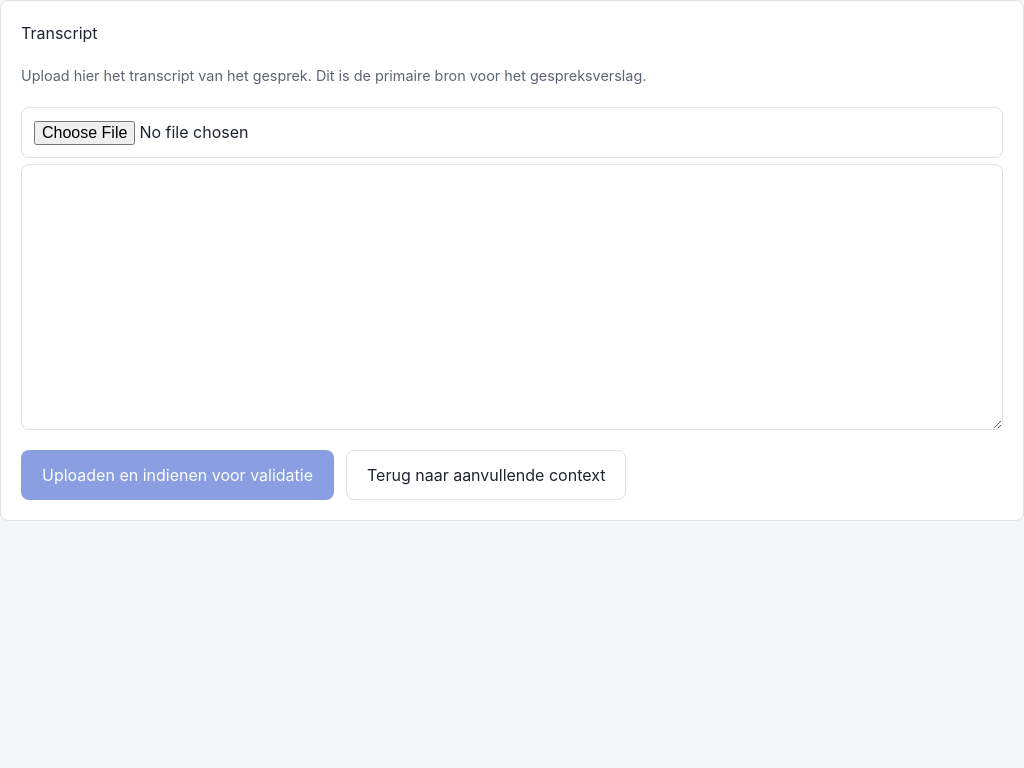
Test: routes/Upload/UploadScreen › disables the submit button until transcript text is entered
Expected: the button "Uploaden en indienen voor validatie" is disabled, [21,450,334,500]
Type "Some transcript content" into the text box labelled "Transcript".
click(512, 297); type("Some transcript content")  # box [21,164,1003,430]
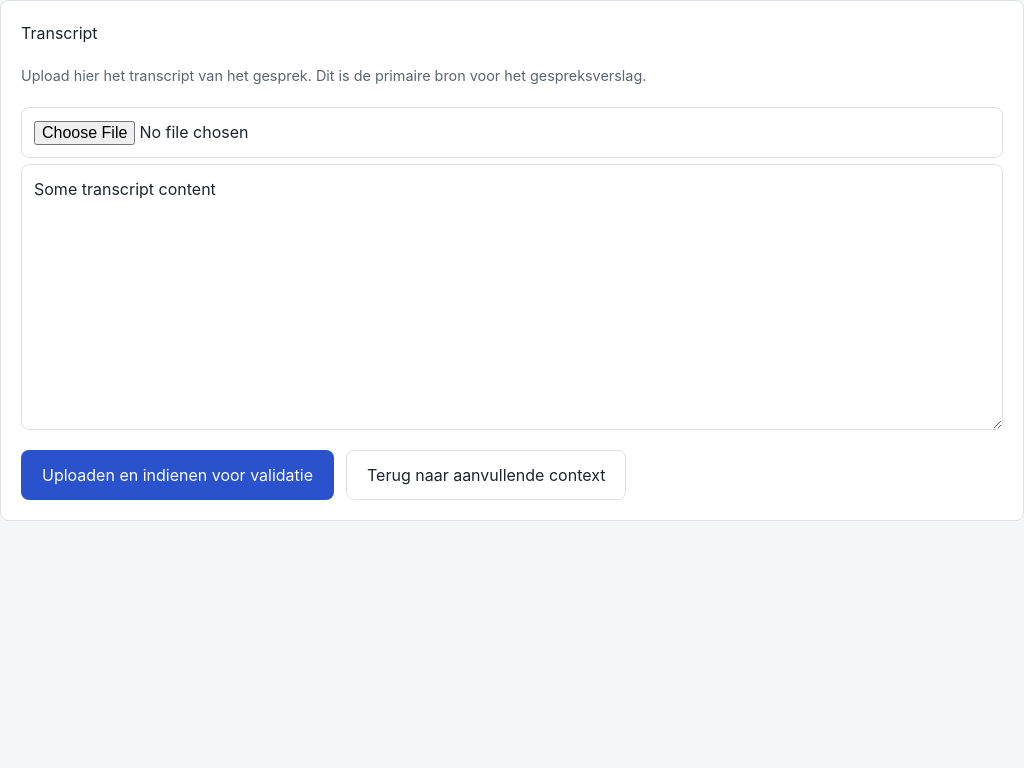
Now the button "Uploaden en indienen voor validatie" is enabled, box [21,450,334,500]
